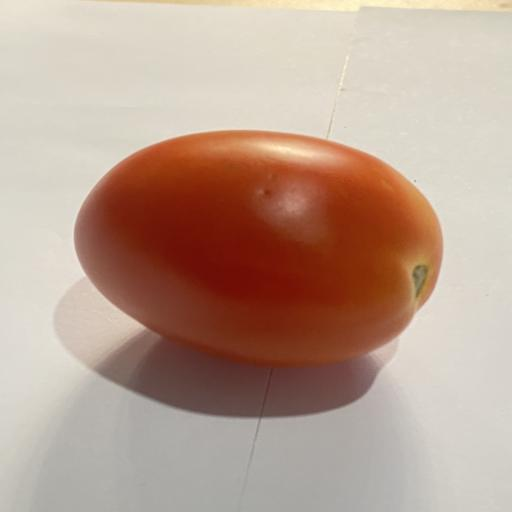ripe: (75, 131, 442, 366)
